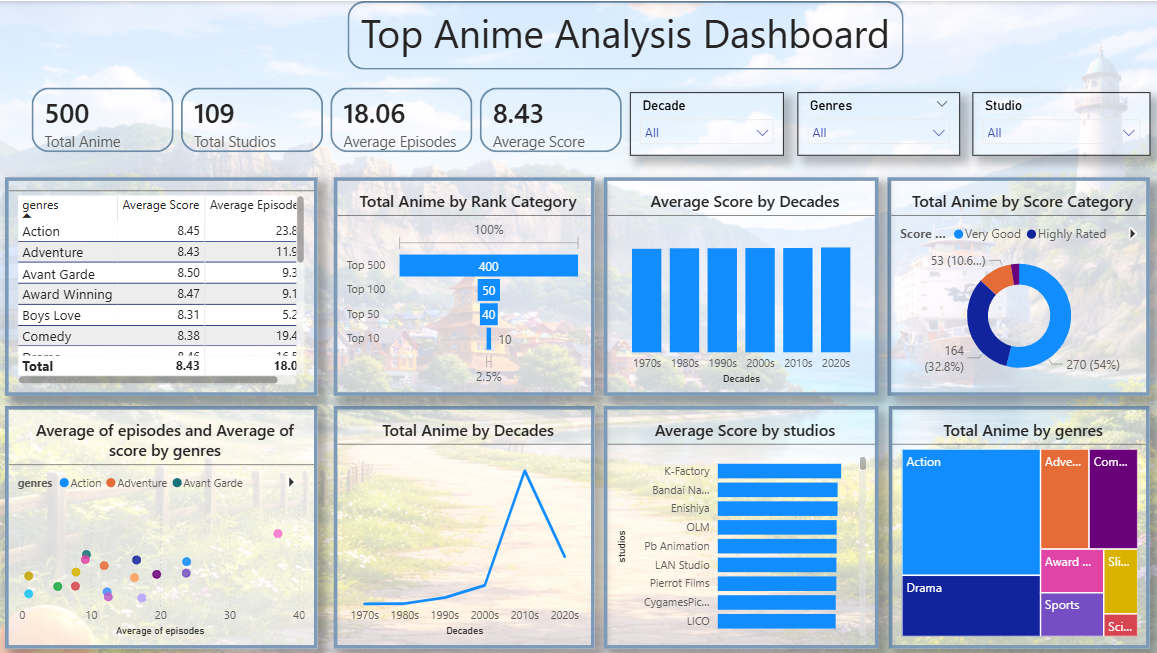

The dashboard page shown, as its layout file describes it:
{"tool":"powerbi","page":{"name":"Page 1","canvas":[1280,720],"ordinal":0},"visuals":[{"type":"cardVisual","fields":{"Data":["top_anime_dataset.Total Anime","top_anime_dataset.Total Studios","top_anime_dataset.Average Episodes","top_anime_dataset.Average Score"]},"box":[11,75.5,690.2,105.7],"z":0},{"type":"treemap","fields":{"Group":["top_anime_dataset.genres"],"Values":["top_anime_dataset.Total Anime"]},"box":[981.1,454.2,286.8,256.6],"z":1000},{"type":"donutChart","fields":{"Category":["top_anime_dataset.Score Category"],"Y":["top_anime_dataset.Total Anime"]},"box":[979.8,193.5,288.2,240.1],"z":2000},{"type":"scatterChart","fields":{"X":["Avg(top_anime_dataset.episodes)"],"Y":["Avg(top_anime_dataset.score)"],"Series":["top_anime_dataset.genres"]},"box":[11,444.6,345.8,266.2],"z":3000},{"type":"lineChart","fields":{"Y":["top_anime_dataset.Total Anime"],"Category":["top_anime_dataset.Decades"]},"box":[367.8,444.6,271.7,266.2],"z":4000},{"type":"pivotTable","fields":{"Rows":["top_anime_dataset.genres"],"Values":["top_anime_dataset.Average Score","top_anime_dataset.Average Episodes"]},"box":[11,193.5,341.7,240.1],"z":5000},{"type":"funnel","fields":{"Category":["top_anime_dataset.Rank Category"],"Y":["top_anime_dataset.Total Anime"]},"box":[367.8,193.5,271.7,240.1],"z":6000},{"type":"slicer","fields":{"Values":["top_anime_dataset.genres"]},"box":[702.6,87.8,194.9,60.4],"z":7000},{"type":"slicer","fields":{"Values":["top_anime_dataset.studios"]},"box":[897.4,87.8,181.1,60.4],"z":8000},{"type":"slicer","fields":{"Values":["top_anime_dataset.Decades"]},"box":[1090.9,87.8,177,60.4],"z":9000},{"type":"clusteredColumnChart","fields":{"Category":["top_anime_dataset.Decades"],"Y":["top_anime_dataset.Average Score"]},"box":[649.1,193.5,321.1,240.1],"z":10000},{"type":"clusteredBarChart","fields":{"Y":["top_anime_dataset.Average Score"],"Category":["top_anime_dataset.studios"]},"box":[649.1,444.6,321.1,266.2],"z":11000},{"type":"textbox","box":[429.5,0,437.7,72.7],"z":11001},{"type":"shape","box":[403.4,0,477.5,72.7],"z":11002}]}

Visuals, with their boxes in screenshot pixels (x1, y1, x2, y2), scaled from the page's 1280x720 canvas onto the 1157x653 screenshot:
cardVisual - top_anime_dataset.Total Anime x top_anime_dataset.Total Studios: [left=10, top=68, right=634, bottom=164]
treemap - top_anime_dataset.genres x top_anime_dataset.Total Anime: [left=887, top=412, right=1146, bottom=645]
donutChart - top_anime_dataset.Score Category x top_anime_dataset.Total Anime: [left=886, top=175, right=1146, bottom=393]
scatterChart - Avg(top_anime_dataset.episodes) x Avg(top_anime_dataset.score): [left=10, top=403, right=323, bottom=645]
lineChart - top_anime_dataset.Total Anime x top_anime_dataset.Decades: [left=332, top=403, right=578, bottom=645]
pivotTable - top_anime_dataset.genres x top_anime_dataset.Average Score: [left=10, top=175, right=319, bottom=393]
funnel - top_anime_dataset.Rank Category x top_anime_dataset.Total Anime: [left=332, top=175, right=578, bottom=393]
slicer - top_anime_dataset.genres: [left=635, top=80, right=811, bottom=134]
slicer - top_anime_dataset.studios: [left=811, top=80, right=975, bottom=134]
slicer - top_anime_dataset.Decades: [left=986, top=80, right=1146, bottom=134]
clusteredColumnChart - top_anime_dataset.Decades x top_anime_dataset.Average Score: [left=587, top=175, right=877, bottom=393]
clusteredBarChart - top_anime_dataset.Average Score x top_anime_dataset.studios: [left=587, top=403, right=877, bottom=645]
textbox: [left=388, top=0, right=784, bottom=66]
shape: [left=365, top=0, right=796, bottom=66]
